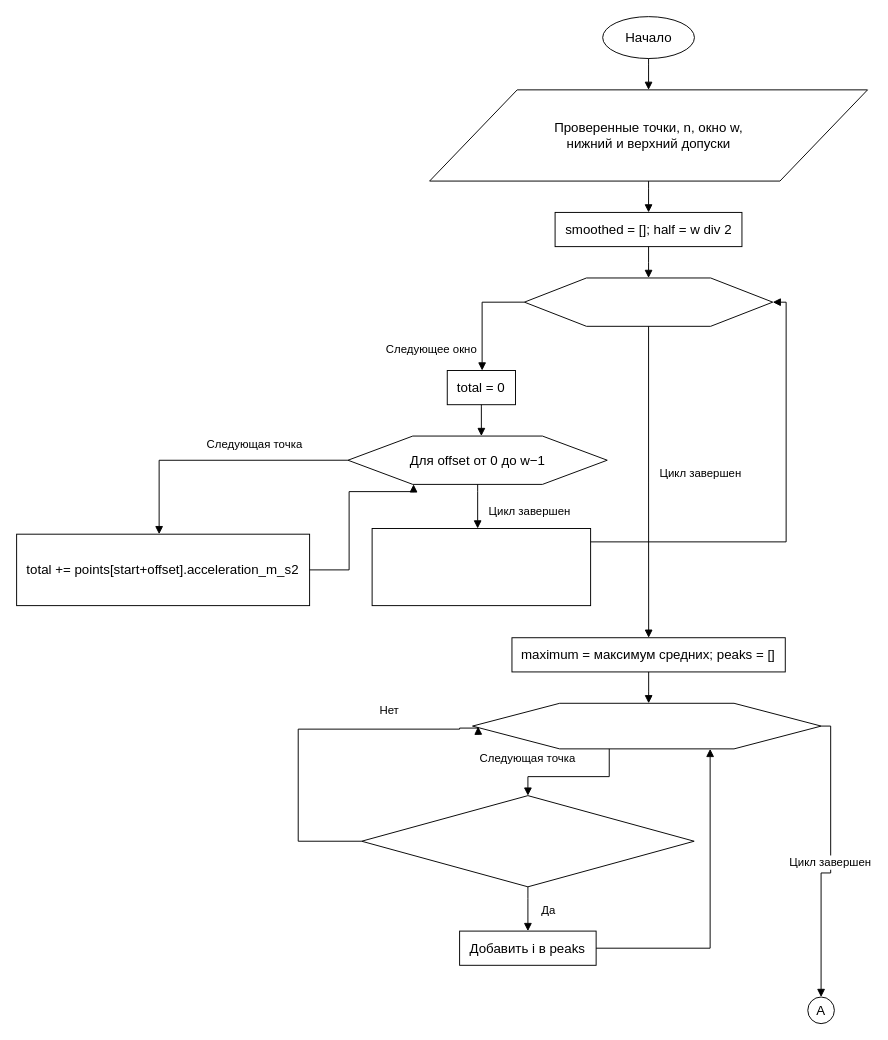
Some shapes in this 888 by 1040 pixel diagram are drawn without their labels. The box of each missing label's shape, as (x1, y1, x2, y2) in pixels:
Для start от 0 до n−w: (523, 277, 773, 326)
Для каждой сглаженной точки i: (472, 702, 821, 749)
Добавить среднее total/w с частотой центральной точки окна: (371, 528, 591, 606)
Среднее близко к maximum? rel_tol=10⁻⁹, abs_tol=10⁻¹²: (361, 795, 694, 887)
